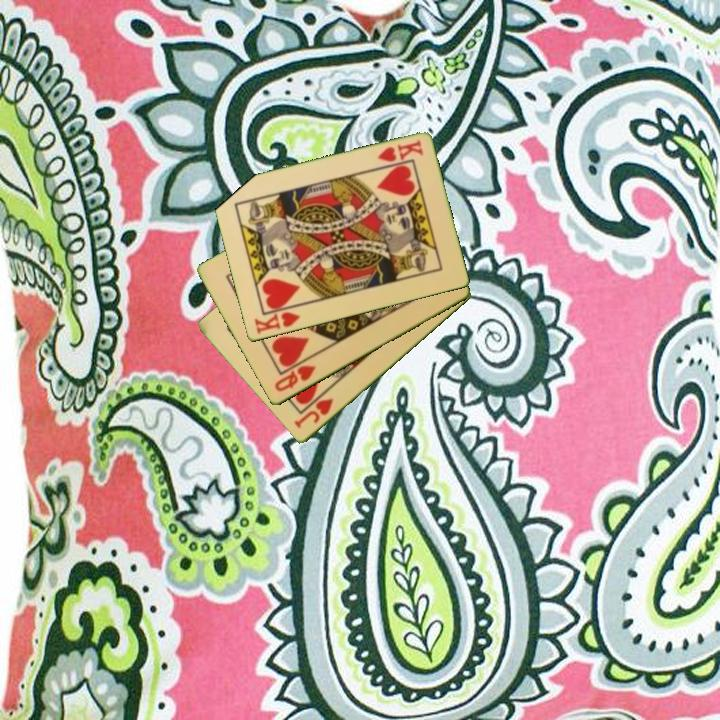Jh: (290, 395, 337, 432)
Kh: (250, 302, 303, 337), (374, 137, 426, 166)
Qh: (271, 362, 319, 395)
